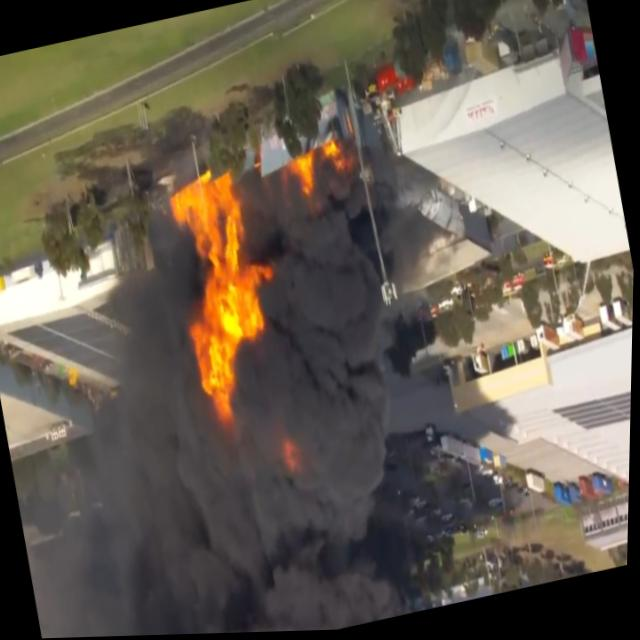Fire: (152, 165, 309, 454), (291, 152, 325, 216), (323, 139, 352, 177)
